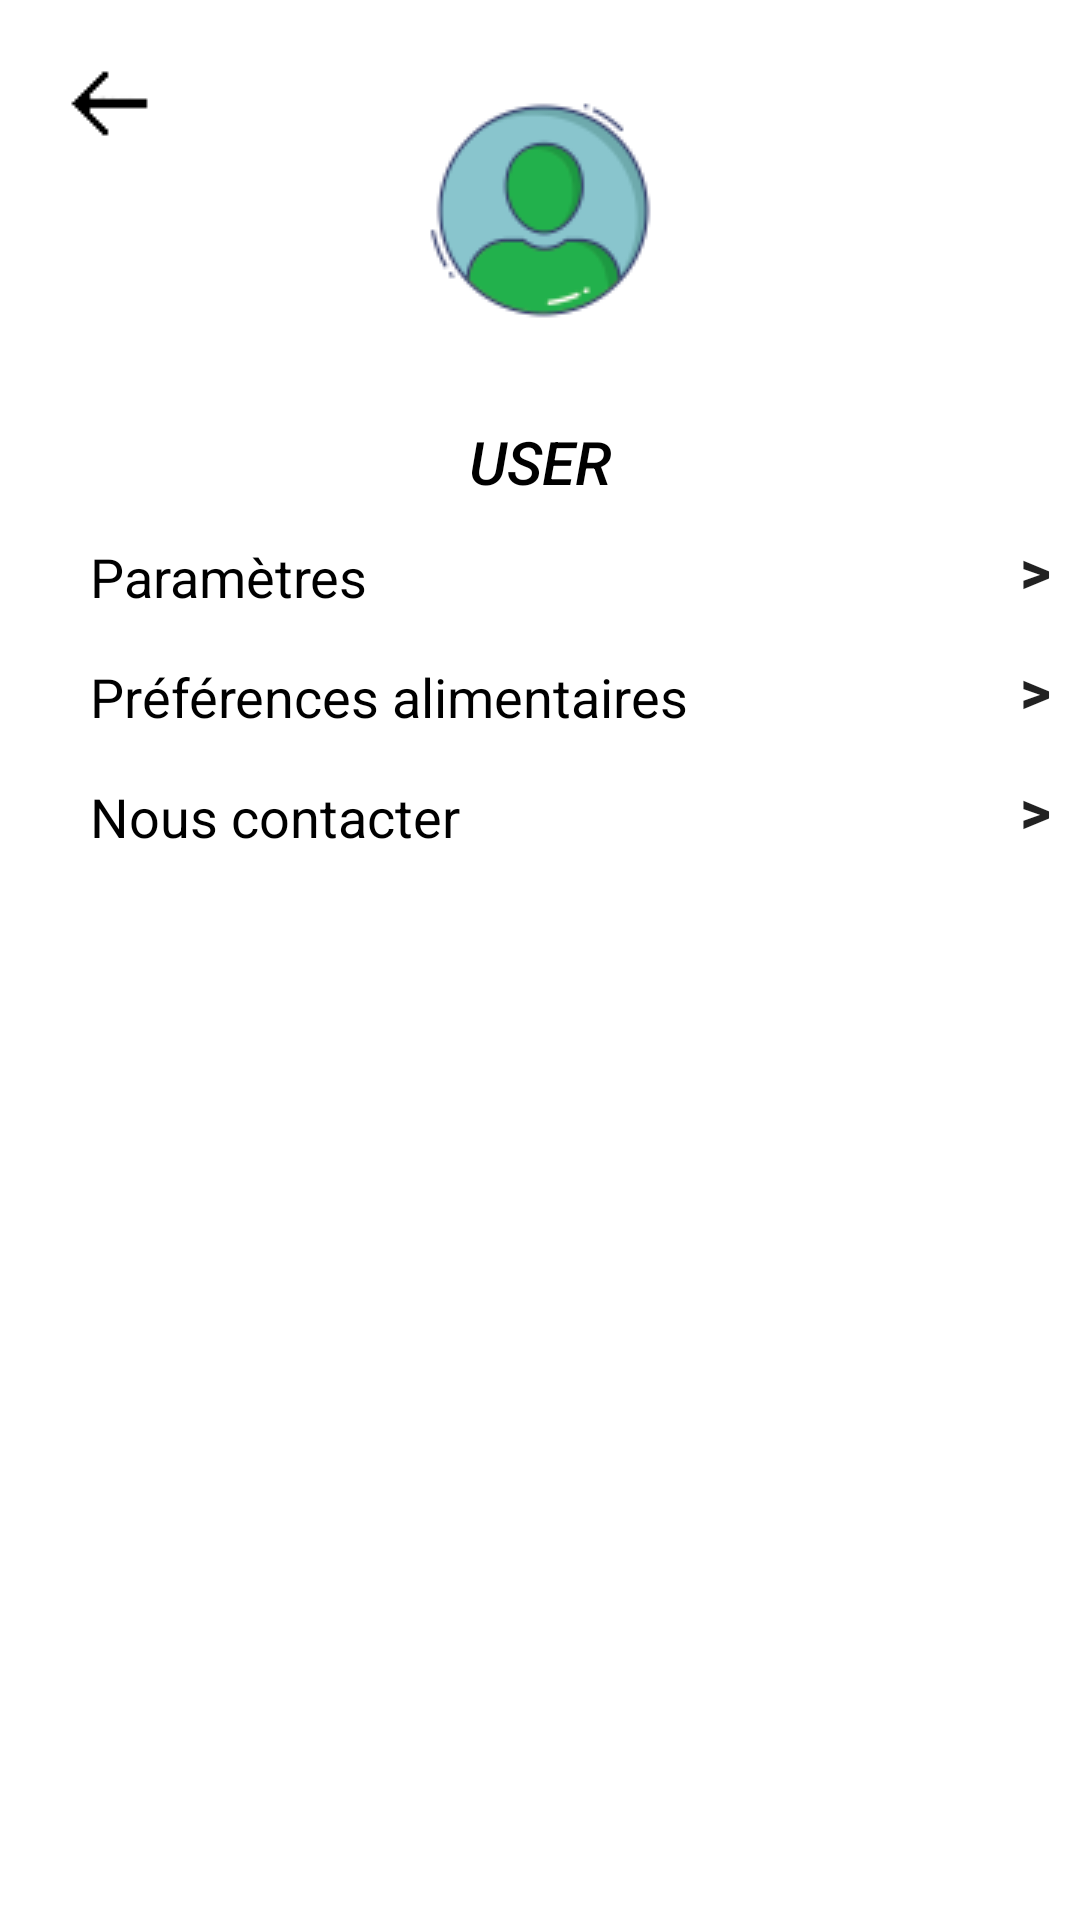

Screen size 1080×1920. Icon name, then its center in pixels as [x,y]:
backfleche: [109,103]
profil: [540,210]
